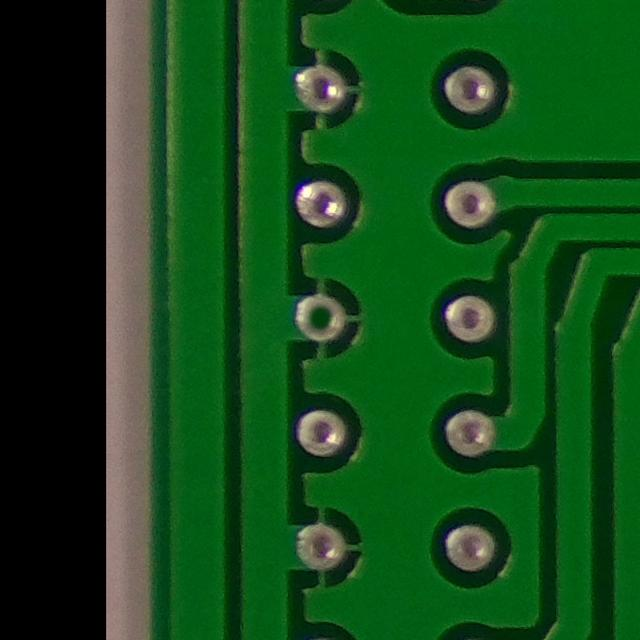missing_hole: (283, 286, 356, 355)
